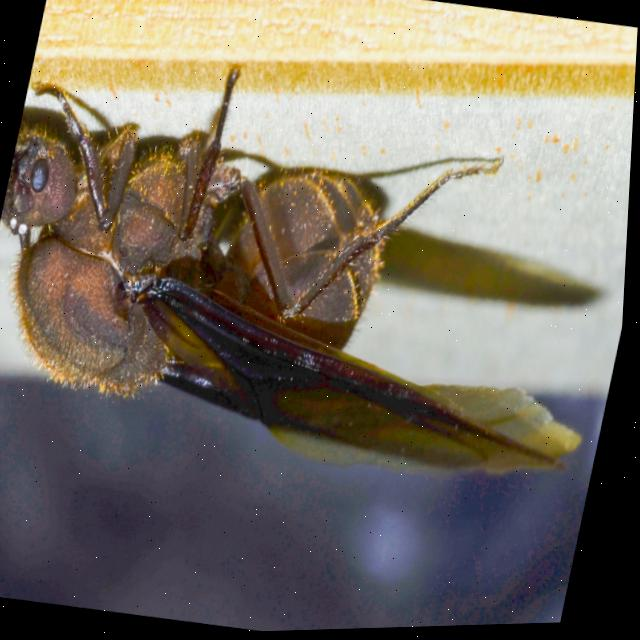Alive-Female-Alate: (0, 26, 638, 515)
